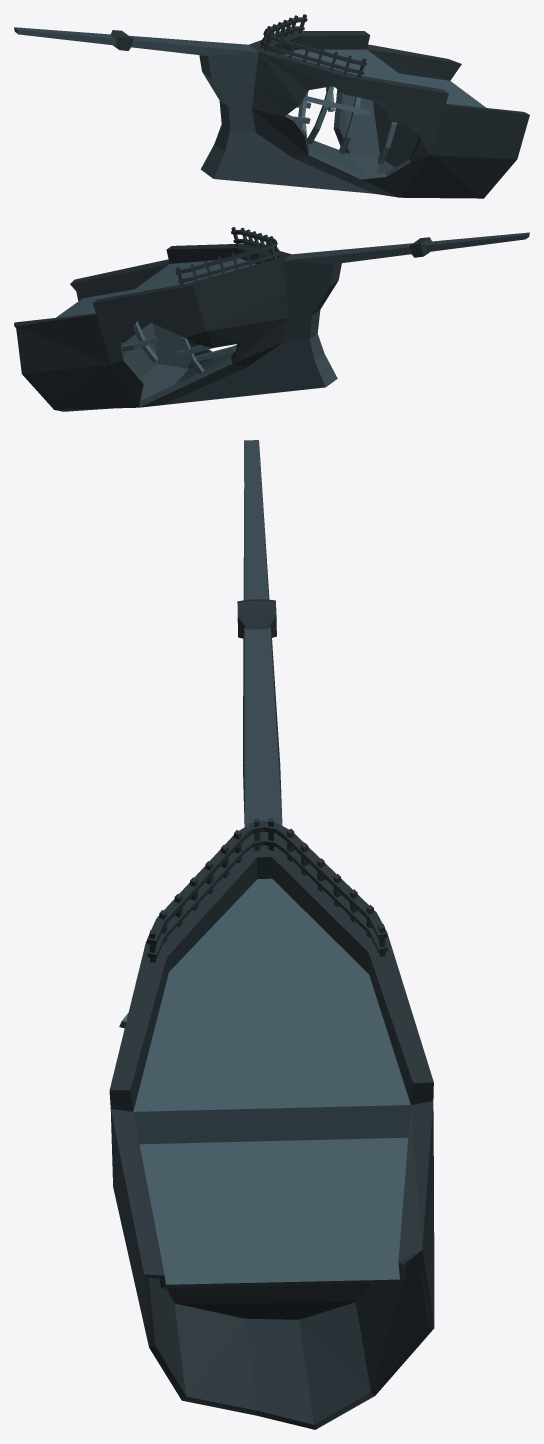
Rendered from Ship_057.glb.
The picture shows the model from 3 angles, top to bottom: view 1: azimuth 30°, elevation 25°; view 2: azimuth 150°, elevation 25°; view 3: azimuth 270°, elevation 25°; orthographic projection. The views are drawn at different scales.
Parts seen in each view (by area): view 1: Ship_057; view 2: Ship_057; view 3: Ship_057.
Boxes of the visible parts, x1,y1,x2,y2 form: Ship_057: (14,14,529,198); Ship_057: (14,227,529,411); Ship_057: (109,440,434,1429).
Bounding box in the file's own units: 13.55 × 7.44 × 3.97.
1 material, 1 textured.
